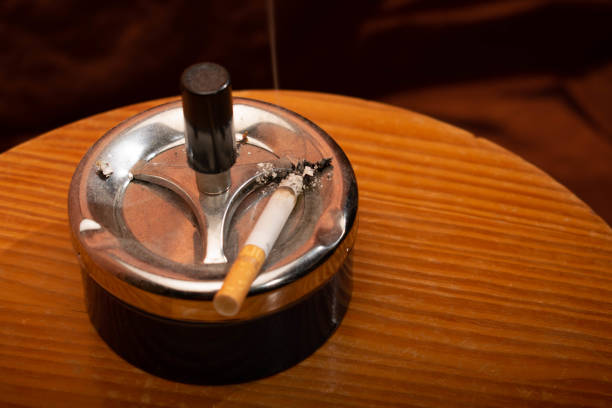cigarette: (213, 171, 303, 314)
